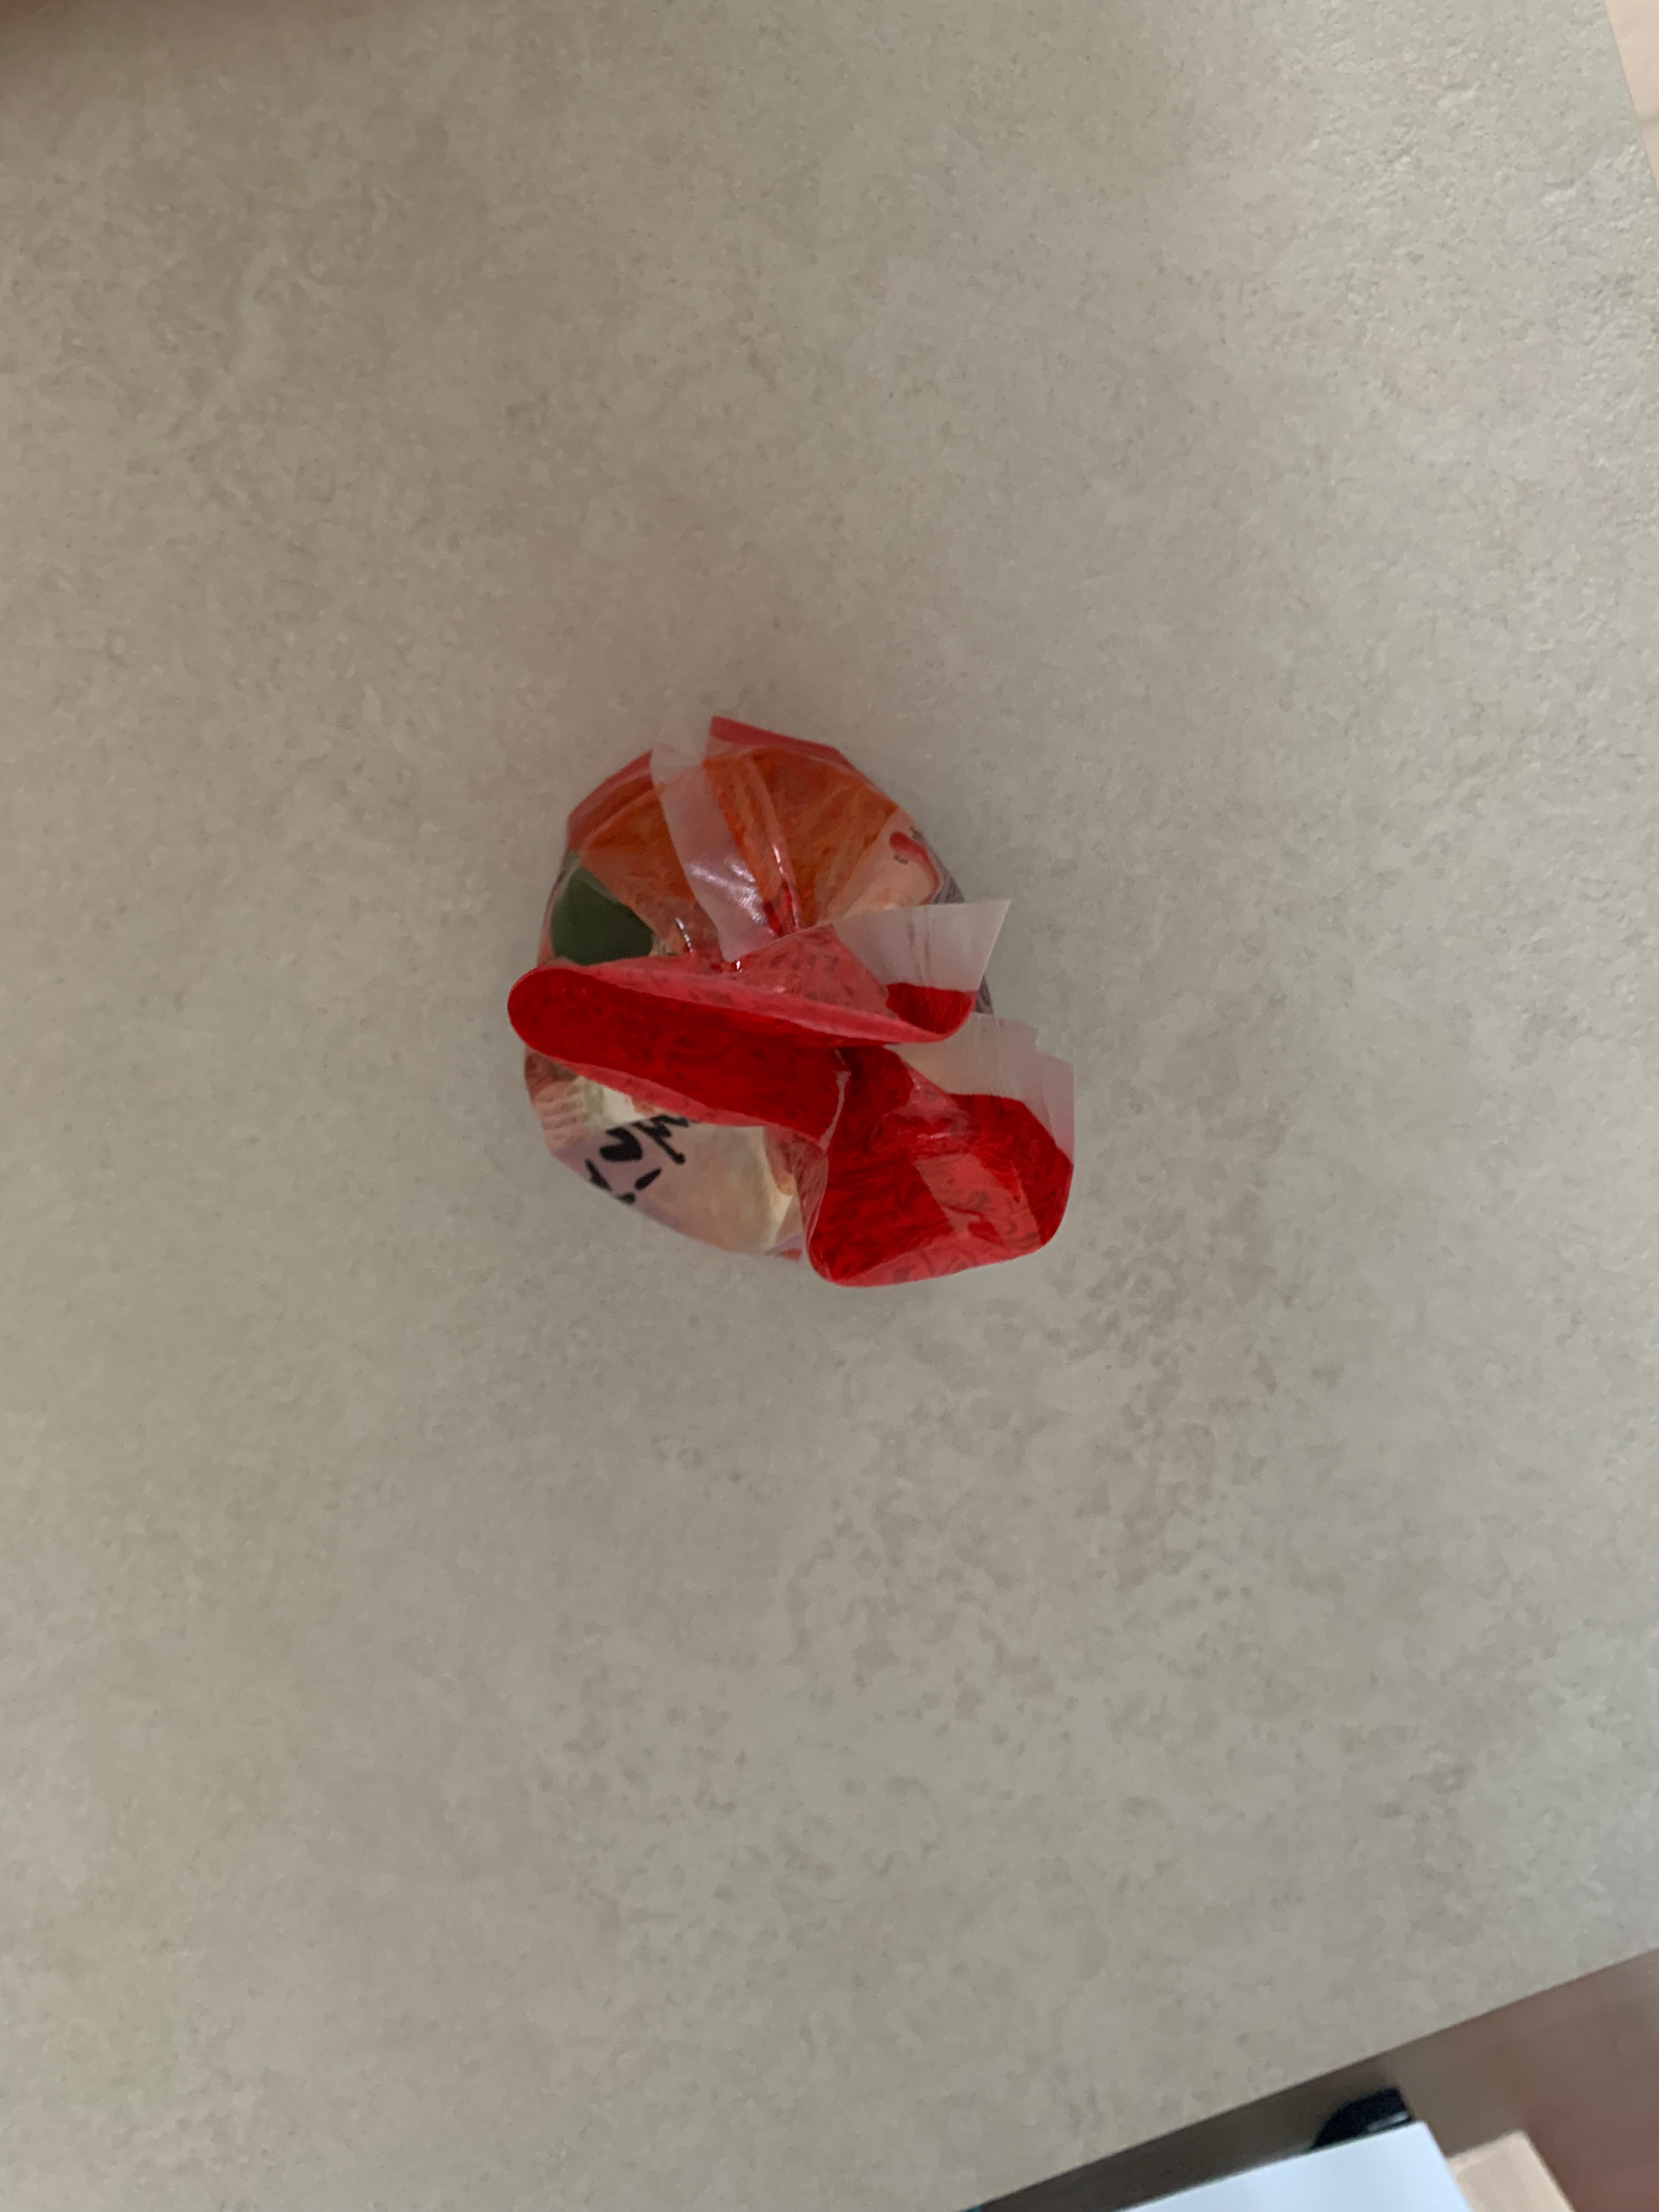kimchi: (505, 711, 1082, 1282)
